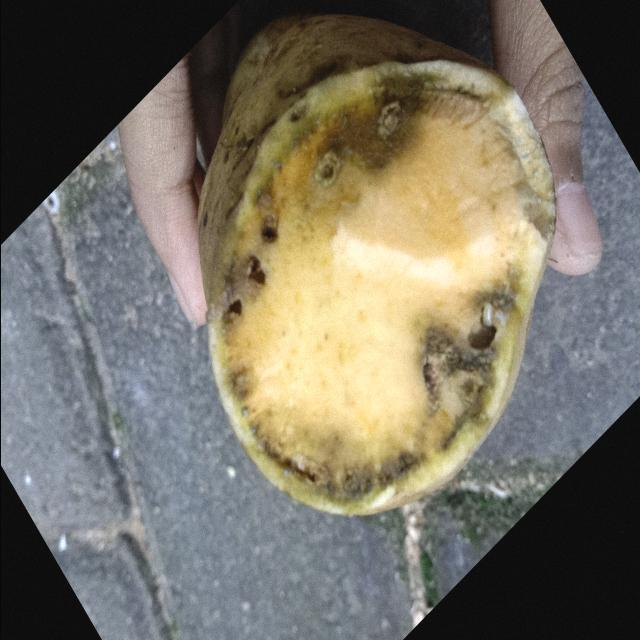Sick Sweet Potato_Tuber Rot: (199, 60, 555, 515)
